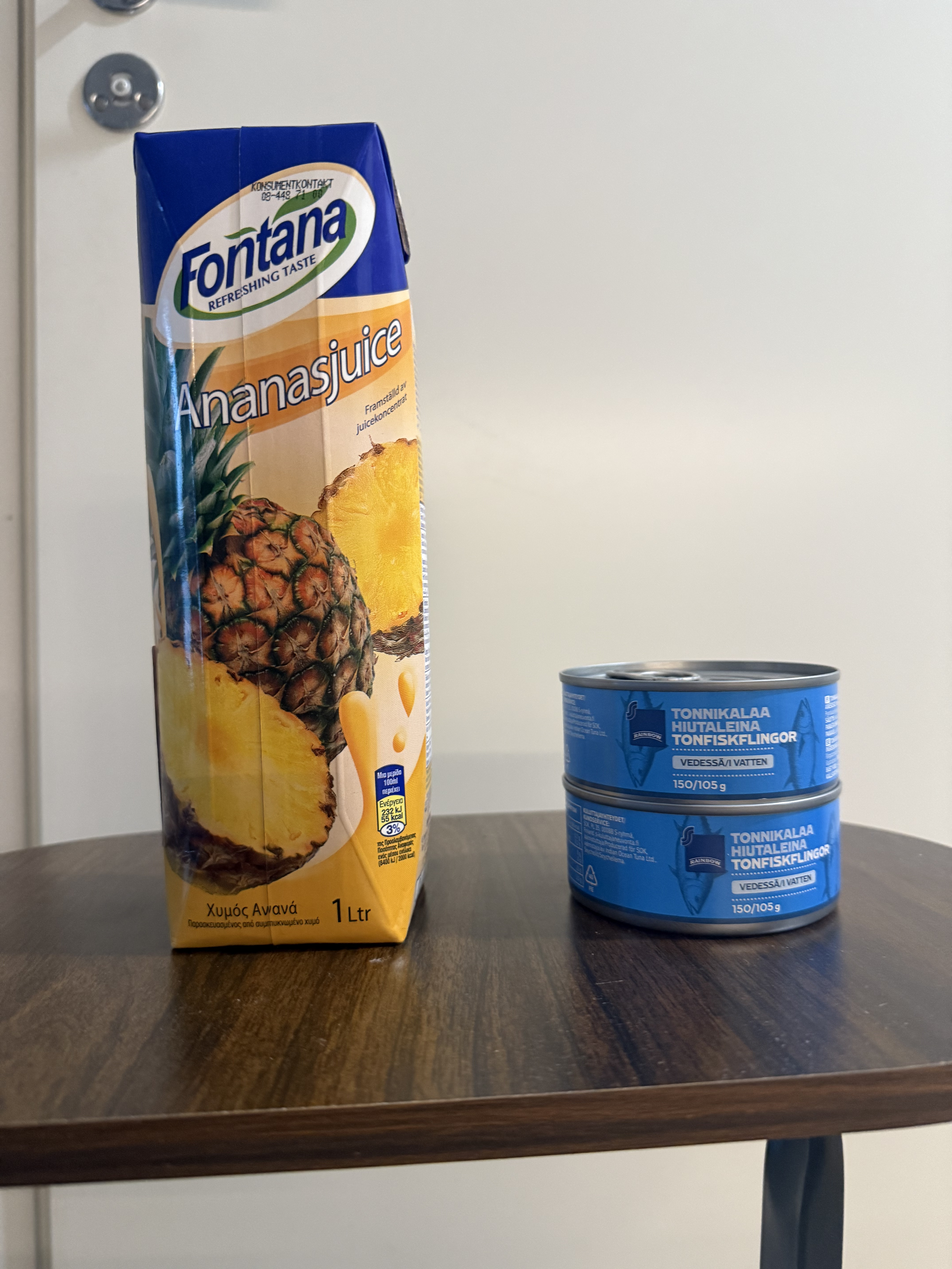Dryckeskartong: (131, 128, 435, 943)
Konservburk: (553, 671, 852, 803), (551, 810, 857, 929)
